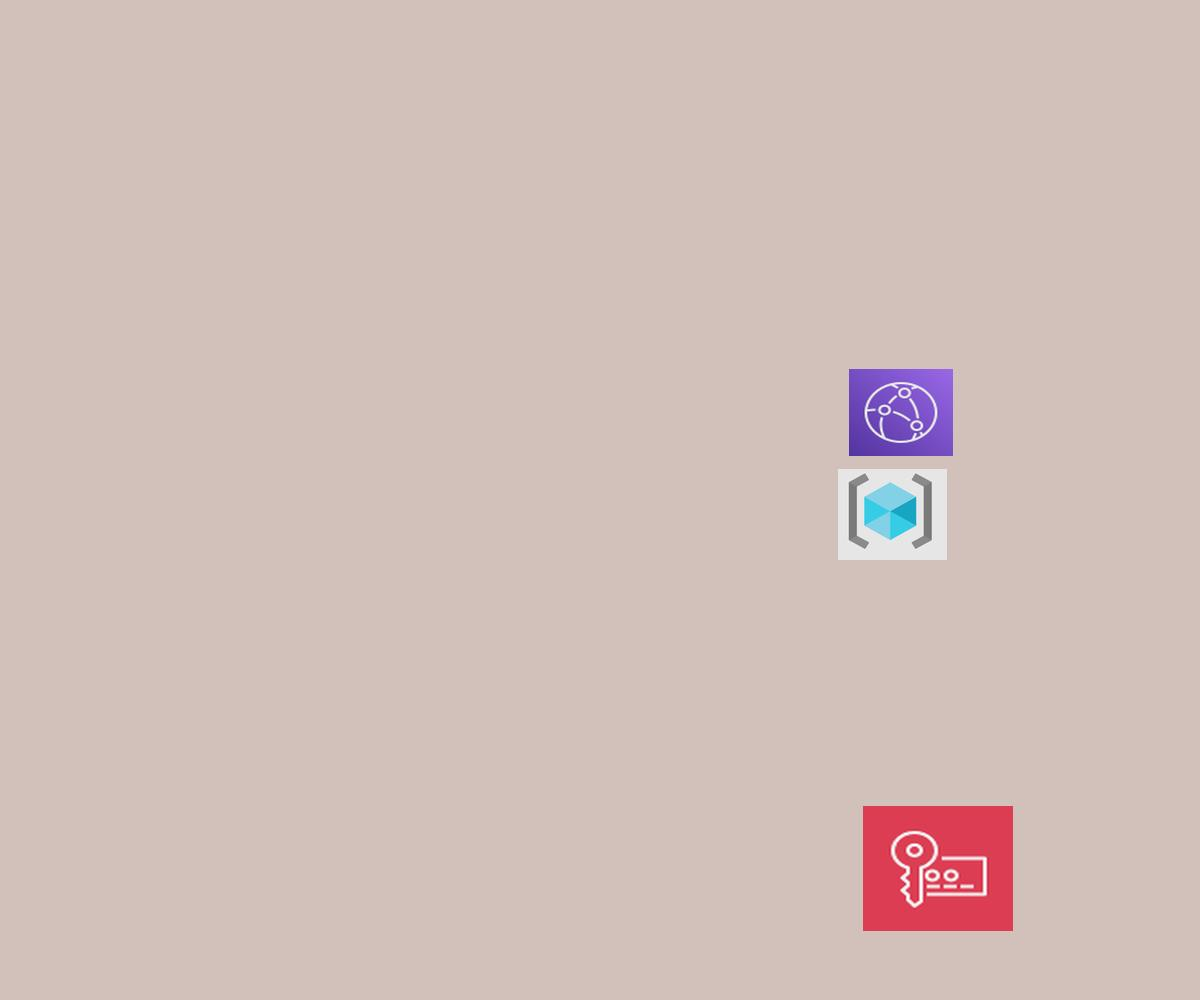AWS-CloudFront: (849, 369, 953, 456)
AWS-Key-Management-Service: (863, 806, 1013, 931)
Azure_resource_group: (838, 469, 947, 560)
